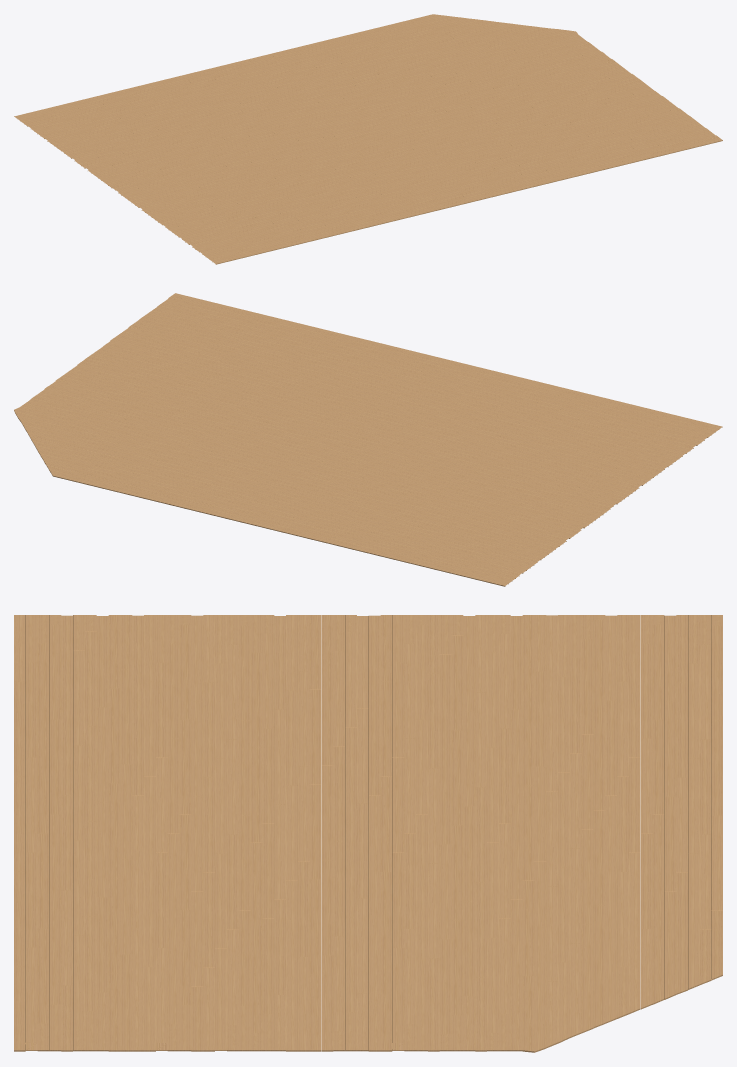
Rendered from Floor.fbx.
The picture shows the model from 3 angles, top to bottom: view 1: azimuth 30°, elevation 25°; view 2: azimuth 150°, elevation 25°; view 3: azimuth 270°, elevation 25°; orthographic projection. The views are drawn at different scales.
Parts seen in each view (by area): view 1: 1900_190_Selene; view 2: 1900_190_Selene; view 3: 1900_190_Selene.
Part boxes in pixels (<box>): 1900_190_Selene: <box>14,14,722,264</box>; 1900_190_Selene: <box>14,293,722,586</box>; 1900_190_Selene: <box>14,615,722,1052</box>.
Bounding box in the file's own units: 9145 × 12.75 × 6278.
